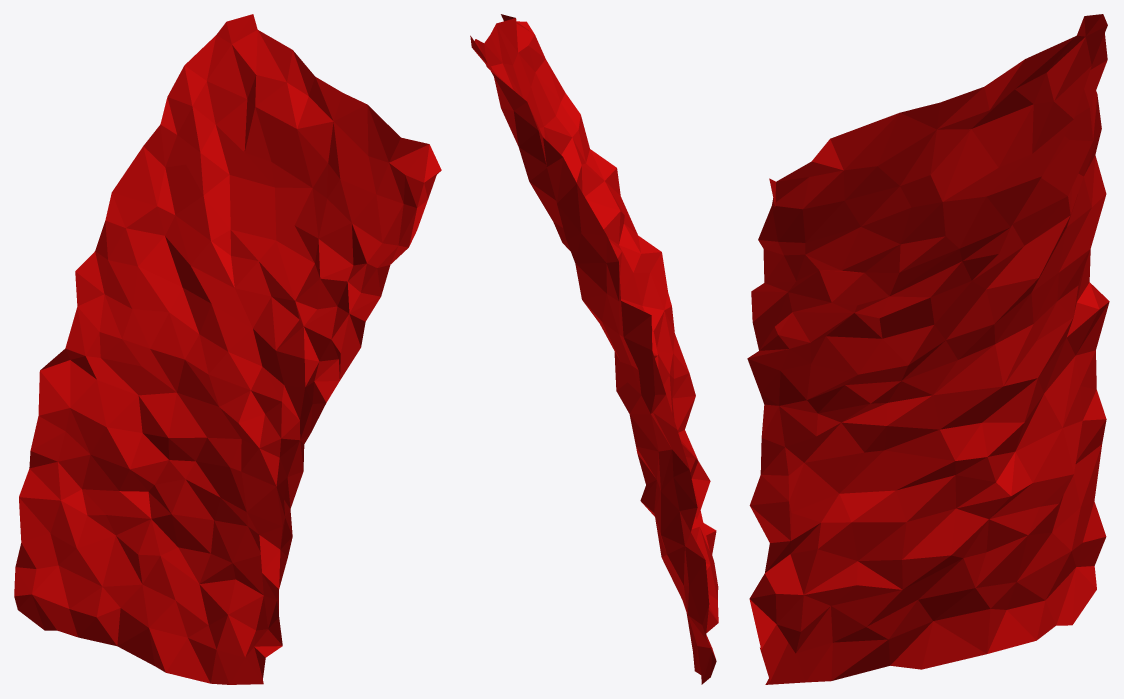
File: Backdropp03.fbx
3 views of the same model, side by side, from view 1: azimuth 30°, elevation 25°; view 2: azimuth 150°, elevation 25°; view 3: azimuth 270°, elevation 25° (orthographic). The views are drawn at different scales.
Visible parts, largest first — view 1: Backdropp03; view 2: Backdropp03; view 3: Backdropp03.
Boxes of the visible parts, x1,y1,x2,y2 form: Backdropp03: [14, 14, 441, 684]; Backdropp03: [470, 14, 718, 684]; Backdropp03: [747, 14, 1109, 684].
Bounding box in the file's own units: 42843 × 75314 × 32667.
